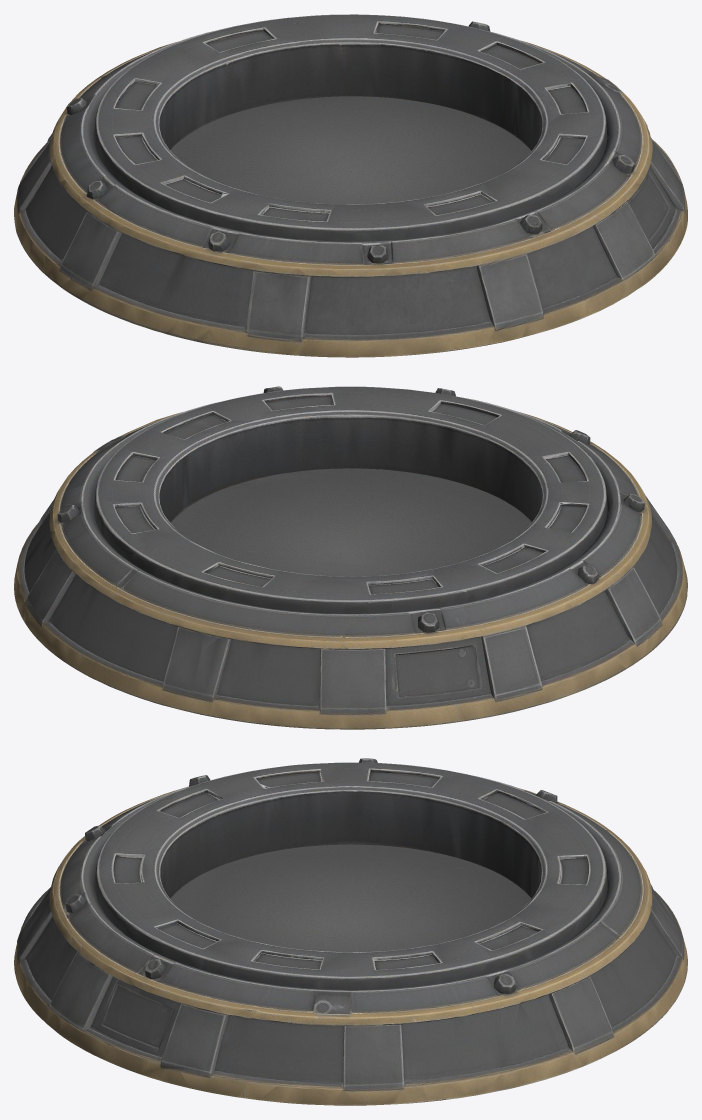
The model's file is imperial_point_defence_turret.glb.
The picture shows the model from 3 angles, top to bottom: view 1: azimuth 30°, elevation 25°; view 2: azimuth 150°, elevation 25°; view 3: azimuth 270°, elevation 25°; orthographic projection.
Parts seen in each view (by area): view 1: mesh_node; view 2: mesh_node; view 3: mesh_node.
Part boxes in pixels (x1,y1,x2,y2): mesh_node: (14,14,687,357); mesh_node: (14,386,687,729); mesh_node: (14,758,687,1105).
Bounding box in the file's own units: 7.62 × 1.17 × 7.62.
1 material, 1 textured.
